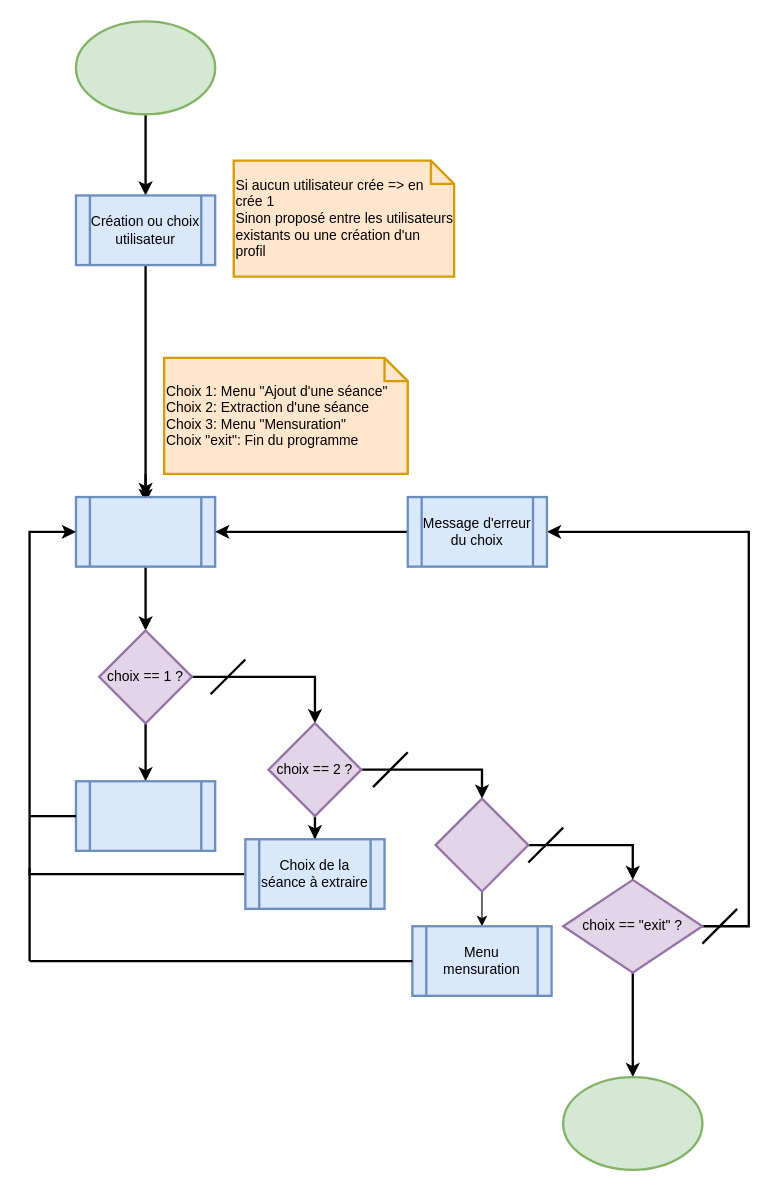
This 778x1190 diagram has some shape labels left out. The centre of each missing label's shape, as x and y in pixels:
choix == 3 ?: point 481,844
Début: point 145,67
Fin: point 632,1122
Menu ajout d'une séance: point 145,815
Menu principal: point 145,531
